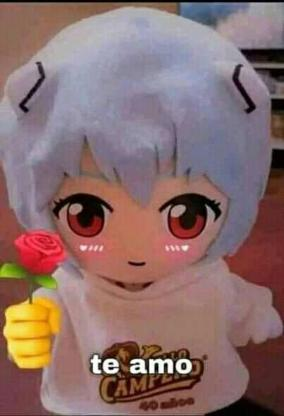rei-plush: (0, 6, 282, 286)
